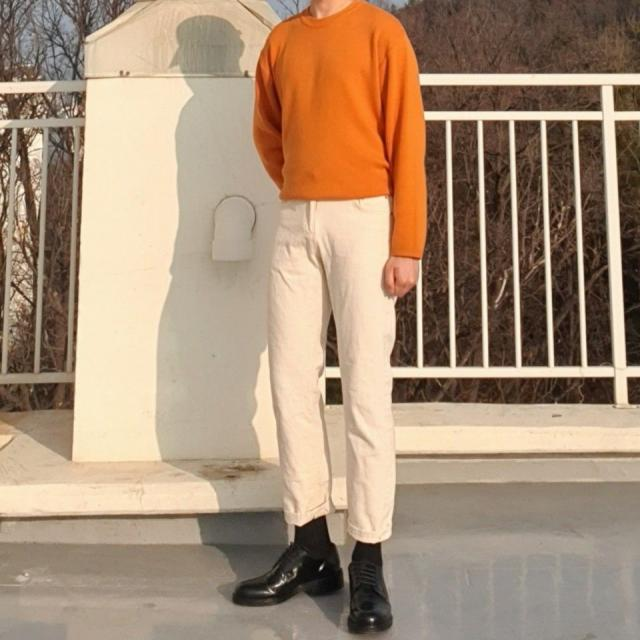cottonpants: (264, 198, 396, 548)
sweater: (250, 7, 424, 266)
